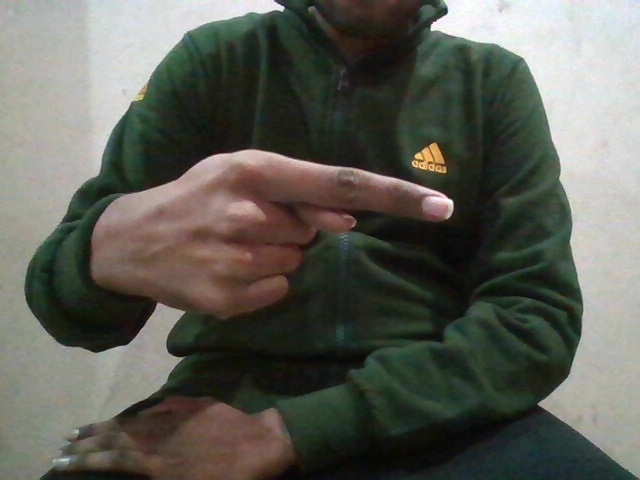G: (111, 150, 454, 319)
